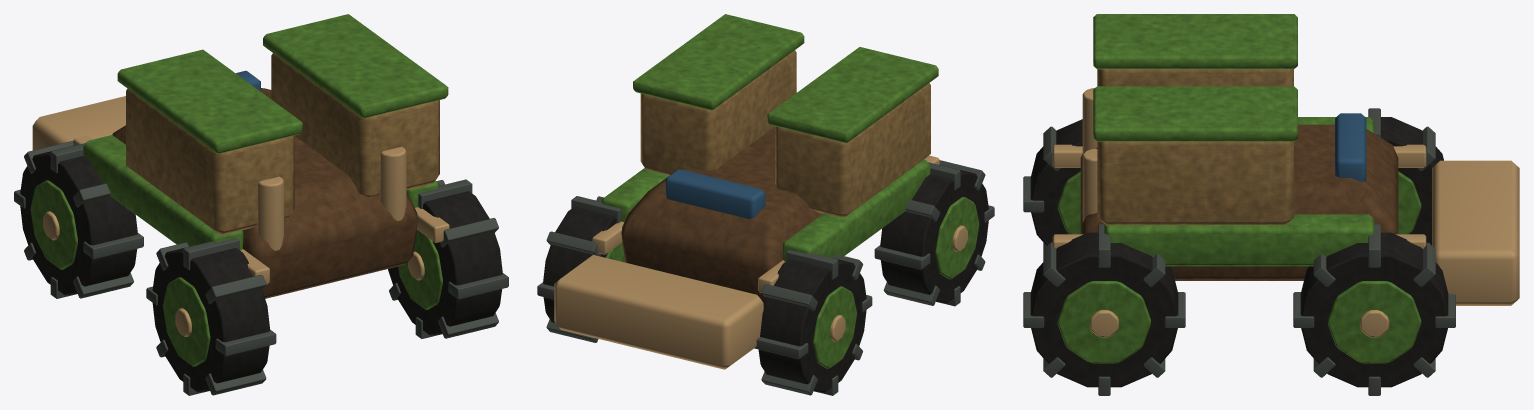
The model's file is vael_pilleur_d_epice.gltf.
The picture shows the model from 3 angles, left to right: view 1: azimuth 30°, elevation 25°; view 2: azimuth 150°, elevation 25°; view 3: azimuth 270°, elevation 25°; orthographic projection. The views are drawn at different scales.
Parts seen in each view (by area): view 1: Root.019_Geometry, Wheel_-0.6554999999999999_-0.646_Geometry, Wheel_-0.6554999999999999_0.646_Geometry, Wheel_0.6554999999999999_-0.646_Geometry, Tool_0_Geometry; view 2: Root.019_Geometry, Tool_0_Geometry, Wheel_-0.6554999999999999_0.646_Geometry, Wheel_-0.6554999999999999_-0.646_Geometry, Wheel_0.6554999999999999_0.646_Geometry; view 3: Root.019_Geometry, Wheel_0.6554999999999999_-0.646_Geometry, Wheel_0.6554999999999999_0.646_Geometry, Tool_0_Geometry, Wheel_-0.6554999999999999_-0.646_Geometry, Wheel_-0.6554999999999999_0.646_Geometry.
Boxes of the visible parts, <box> form: Root.019_Geometry: <box>73,14,449,298</box>; Wheel_-0.6554999999999999_-0.646_Geometry: <box>146,238,276,395</box>; Wheel_-0.6554999999999999_0.646_Geometry: <box>14,141,143,298</box>; Wheel_0.6554999999999999_-0.646_Geometry: <box>388,179,508,338</box>; Tool_0_Geometry: <box>32,96,125,150</box>; Root.019_Geometry: <box>592,14,939,302</box>; Tool_0_Geometry: <box>554,255,763,369</box>; Wheel_-0.6554999999999999_0.646_Geometry: <box>754,250,872,395</box>; Wheel_-0.6554999999999999_-0.646_Geometry: <box>874,160,994,306</box>; Wheel_0.6554999999999999_0.646_Geometry: <box>537,196,625,342</box>; Root.019_Geometry: <box>1052,14,1426,280</box>; Wheel_0.6554999999999999_-0.646_Geometry: <box>1023,224,1185,395</box>; Wheel_0.6554999999999999_0.646_Geometry: <box>1293,224,1455,395</box>; Tool_0_Geometry: <box>1432,160,1519,305</box>; Wheel_-0.6554999999999999_-0.646_Geometry: <box>1023,119,1082,248</box>; Wheel_-0.6554999999999999_0.646_Geometry: <box>1368,108,1443,245</box>.
Size of the model in its own units: 1.65 by 1.35 by 2.37.
7 materials, 4 textured.
